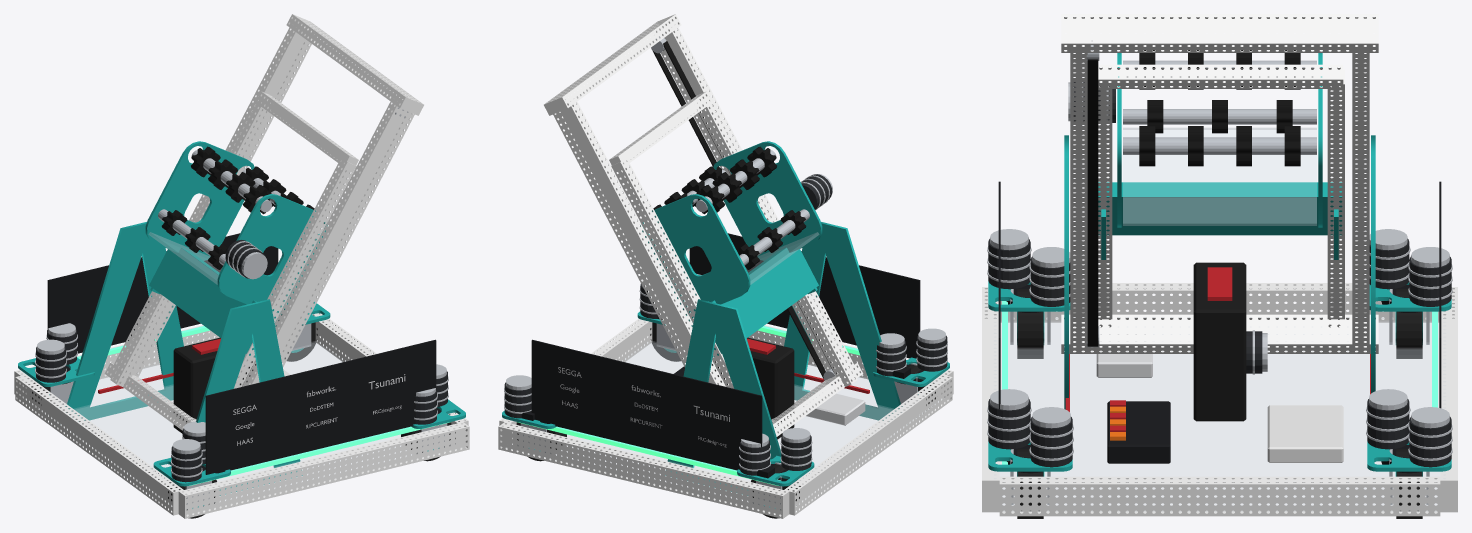
3 views of the same model, side by side, from view 1: azimuth 30°, elevation 25°; view 2: azimuth 150°, elevation 25°; view 3: azimuth 270°, elevation 25° (orthographic). The views are drawn at different scales.
Parts seen in each view (by area): view 1: body.black, body.black_tube, tilt.black_tube, body.teal_anodized, grab.teal_anodized, stage.black_tube, body.polycarb, car.teal_anodized, grab.rubber, body.kraken, body.kraken_cap, body.battery (+9 smaller); view 2: body.black, body.black_tube, tilt.black_tube, body.teal_anodized, grab.teal_anodized, stage.black_tube, body.polycarb, car.teal_anodized, body.kraken, grab.rubber, body.kraken_cap, body.battery (+9 smaller); view 3: body.polycarb, tilt.black_tube, body.black_tube, grab.polycarb, stage.black_tube, car.teal_anodized, body.kraken, body.kraken_cap, body.battery, body.teal_anodized, grab.aluminum, body.black (+10 smaller).
Part boxes in pixels (x1=…): body.black: x1=47, y1=233, x2=441, y2=474; body.black_tube: x1=14, y1=313, x2=469, y2=518; tilt.black_tube: x1=104, y1=14, x2=423, y2=430; body.teal_anodized: x1=18, y1=222, x2=465, y2=508; grab.teal_anodized: x1=145, y1=141, x2=327, y2=309; stage.black_tube: x1=110, y1=91, x2=358, y2=388; body.polycarb: x1=23, y1=340, x2=455, y2=513; car.teal_anodized: x1=149, y1=247, x2=281, y2=357; grab.rubber: x1=161, y1=146, x2=315, y2=269; body.kraken: x1=36, y1=309, x2=447, y2=482; body.kraken_cap: x1=35, y1=319, x2=448, y2=477; body.battery: x1=173, y1=337, x2=256, y2=433; body.black: x1=521, y1=233, x2=923, y2=481; body.black_tube: x1=498, y1=318, x2=953, y2=518; tilt.black_tube: x1=544, y1=14, x2=863, y2=436; body.teal_anodized: x1=502, y1=222, x2=949, y2=508; grab.teal_anodized: x1=640, y1=141, x2=822, y2=309; stage.black_tube: x1=609, y1=91, x2=857, y2=388; body.polycarb: x1=506, y1=340, x2=944, y2=513; car.teal_anodized: x1=686, y1=247, x2=818, y2=357; body.kraken: x1=504, y1=284, x2=947, y2=475; grab.rubber: x1=652, y1=146, x2=806, y2=269; body.kraken_cap: x1=504, y1=274, x2=947, y2=471; body.battery: x1=711, y1=337, x2=794, y2=439; body.polycarb: x1=994, y1=317, x2=1445, y2=511; tilt.black_tube: x1=1061, y1=14, x2=1378, y2=353; body.black_tube: x1=982, y1=283, x2=1457, y2=516; grab.polycarb: x1=1123, y1=128, x2=1316, y2=225; stage.black_tube: x1=1098, y1=64, x2=1344, y2=327; car.teal_anodized: x1=1098, y1=182, x2=1342, y2=259; body.kraken: x1=988, y1=239, x2=1451, y2=467; body.kraken_cap: x1=987, y1=229, x2=1452, y2=460; body.battery: x1=1193, y1=262, x2=1246, y2=421; body.teal_anodized: x1=988, y1=135, x2=1451, y2=476; grab.aluminum: x1=1123, y1=60, x2=1316, y2=154; body.black: x1=998, y1=181, x2=1441, y2=473.
Bounding box in the file's own units: 0.6858 × 0.7862 × 0.6858.
Materials: 16 (1 with a texture image).
